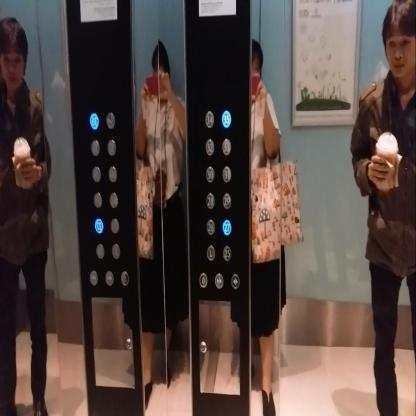25: (222, 244, 232, 261)
26: (206, 218, 215, 235)
27: (222, 219, 231, 235)
28: (206, 192, 215, 209)
29: (222, 192, 231, 209)
30: (205, 164, 215, 183)
31: (222, 166, 231, 182)
32: (204, 137, 214, 155)
33: (222, 137, 232, 155)
34: (205, 109, 214, 128)
35: (221, 109, 232, 128)
L: (206, 243, 215, 261)
alarm: (198, 270, 208, 288), (120, 269, 129, 286)
close: (214, 272, 224, 288), (104, 270, 114, 286)
empty: (109, 216, 119, 235), (91, 164, 101, 183), (106, 138, 116, 156), (95, 242, 105, 260), (90, 138, 100, 156), (108, 164, 117, 183), (93, 190, 102, 209), (109, 191, 118, 209), (111, 241, 120, 259), (106, 112, 115, 128)
indicator: (199, 340, 207, 354), (126, 338, 132, 350)
open: (230, 272, 240, 289), (89, 268, 98, 286)
unknown: (89, 112, 99, 129), (94, 218, 104, 233)
